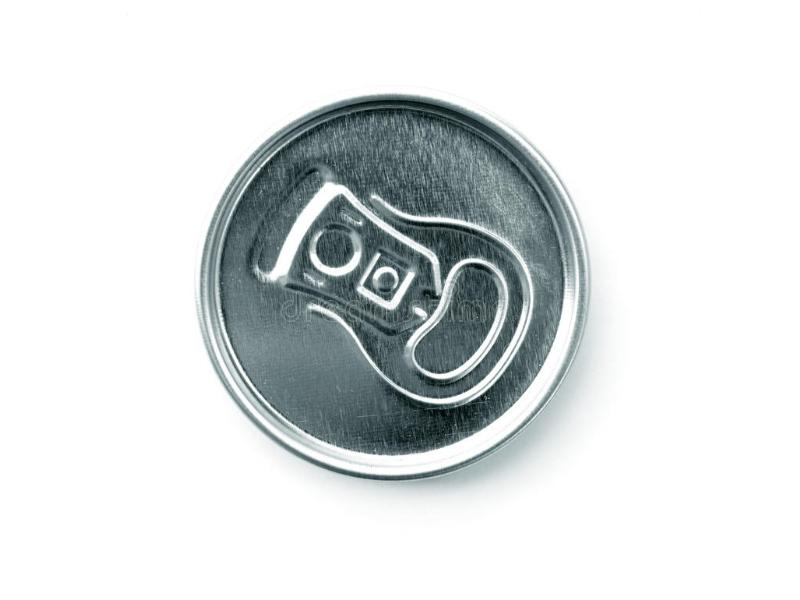can: (199, 93, 588, 479)
